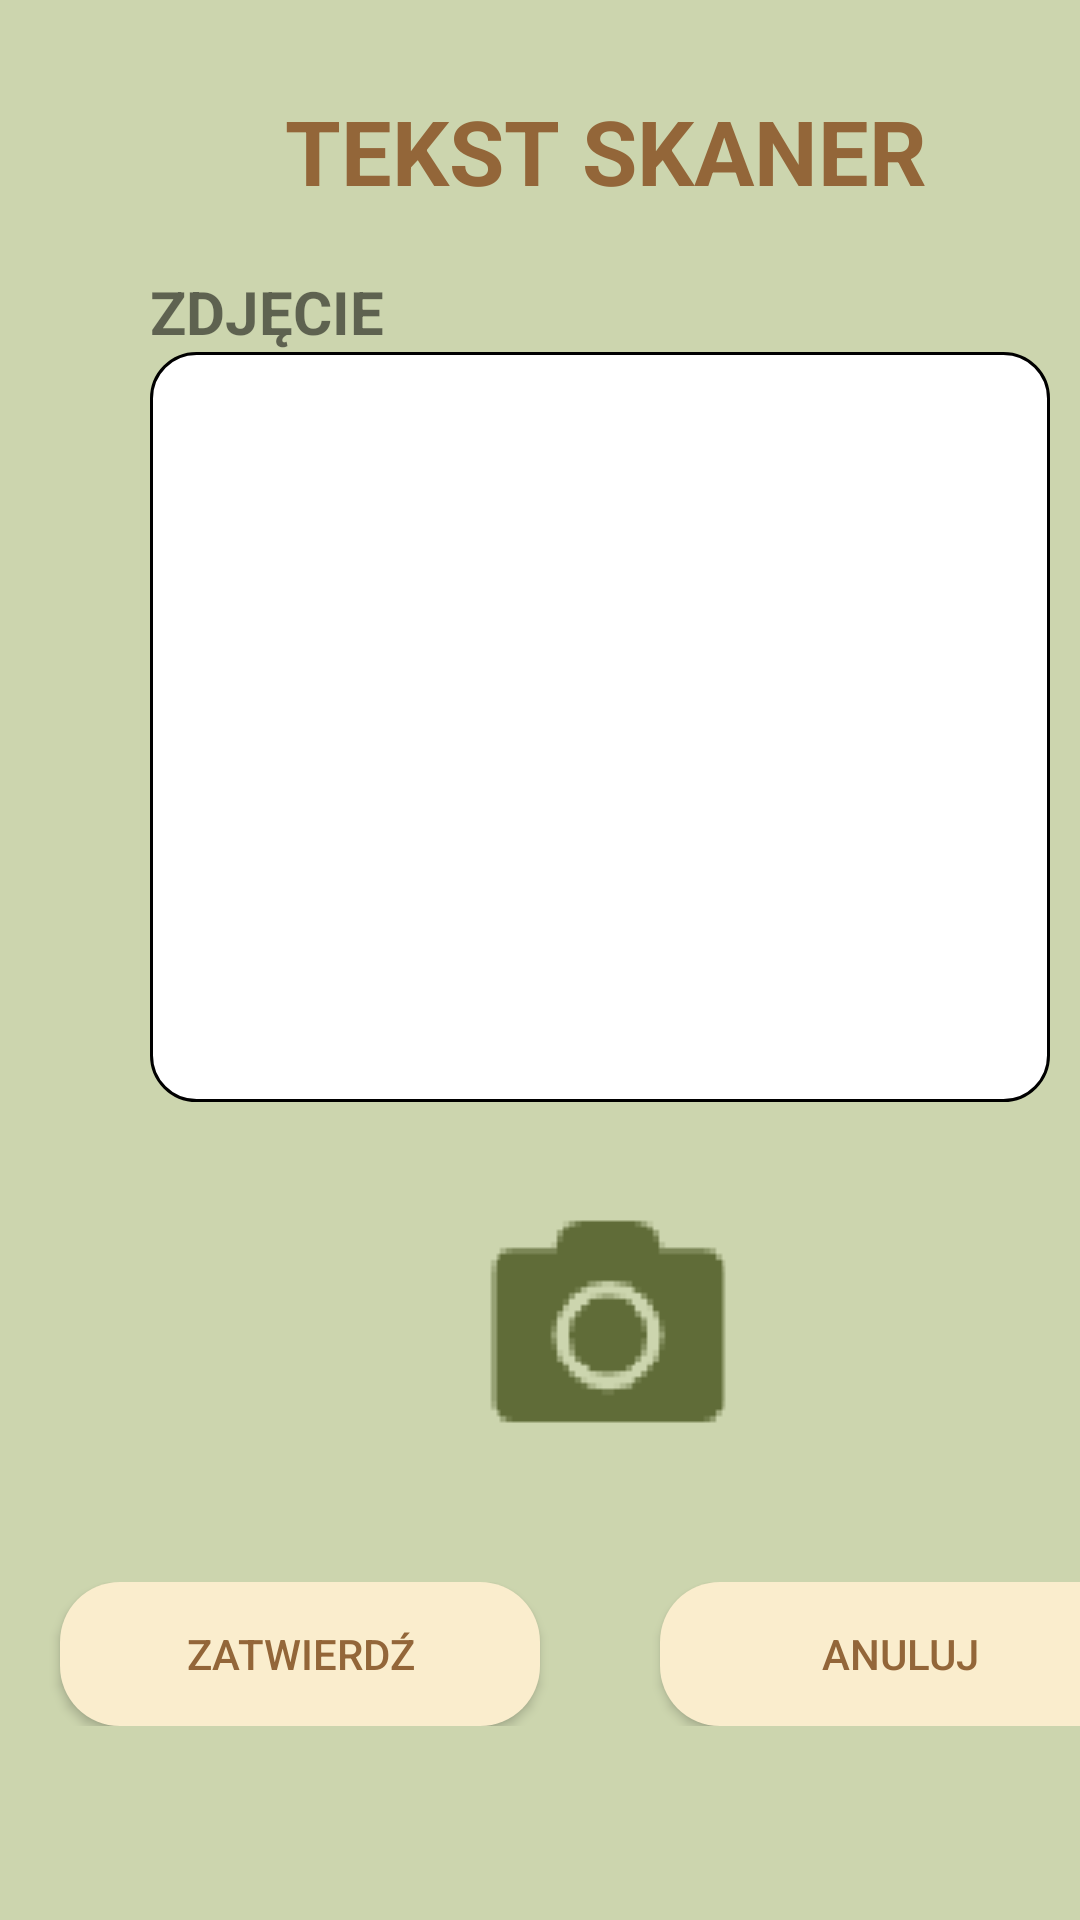

Icon bounding boxes for this 1080 x 1920 phone screenshot, format (x1, y1, x2, y2):
camera button: (491, 1220, 725, 1423)
